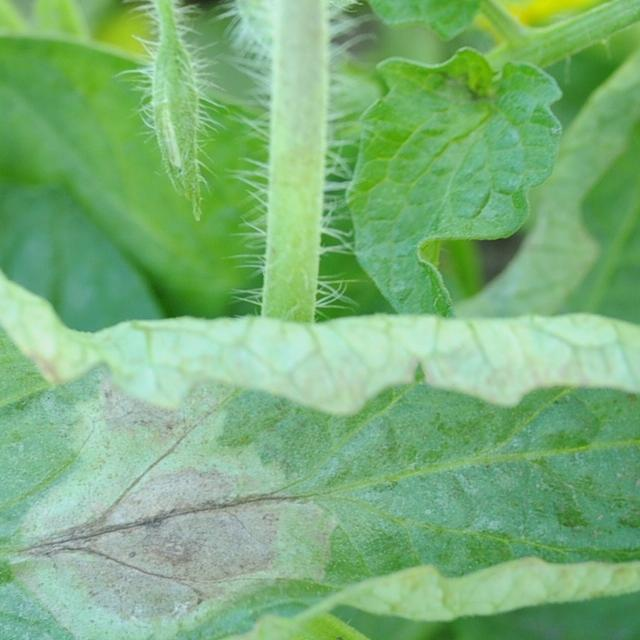Tomato leaf late blight: (0, 298, 640, 640)
